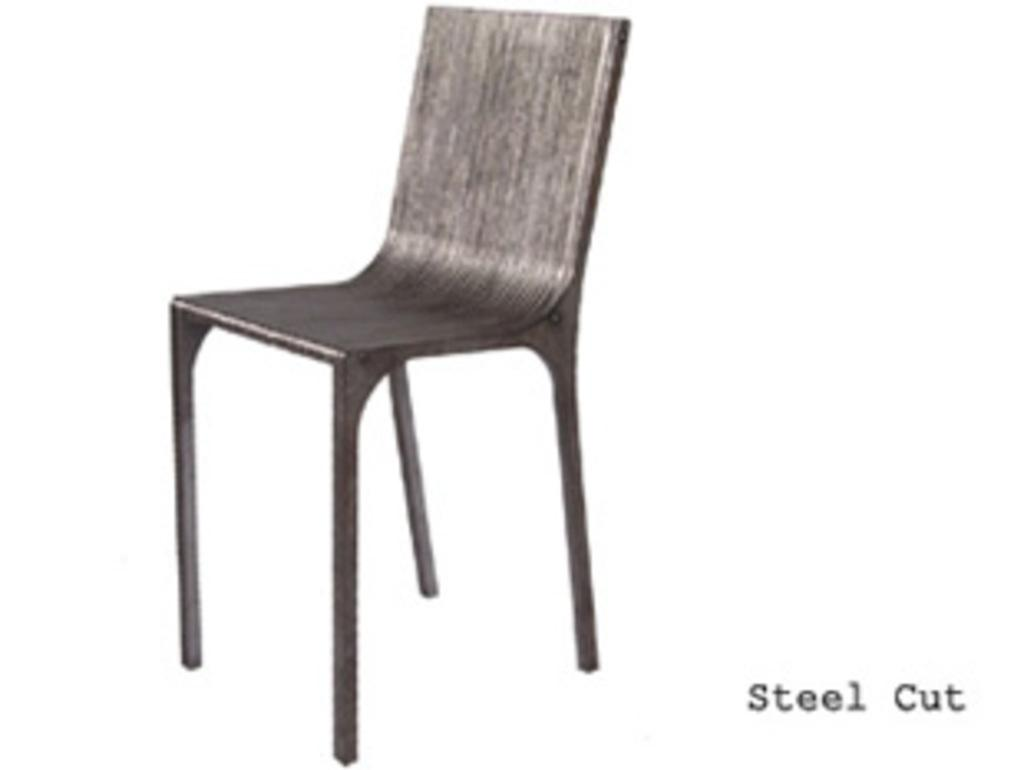Chair: (159, 0, 647, 757)
